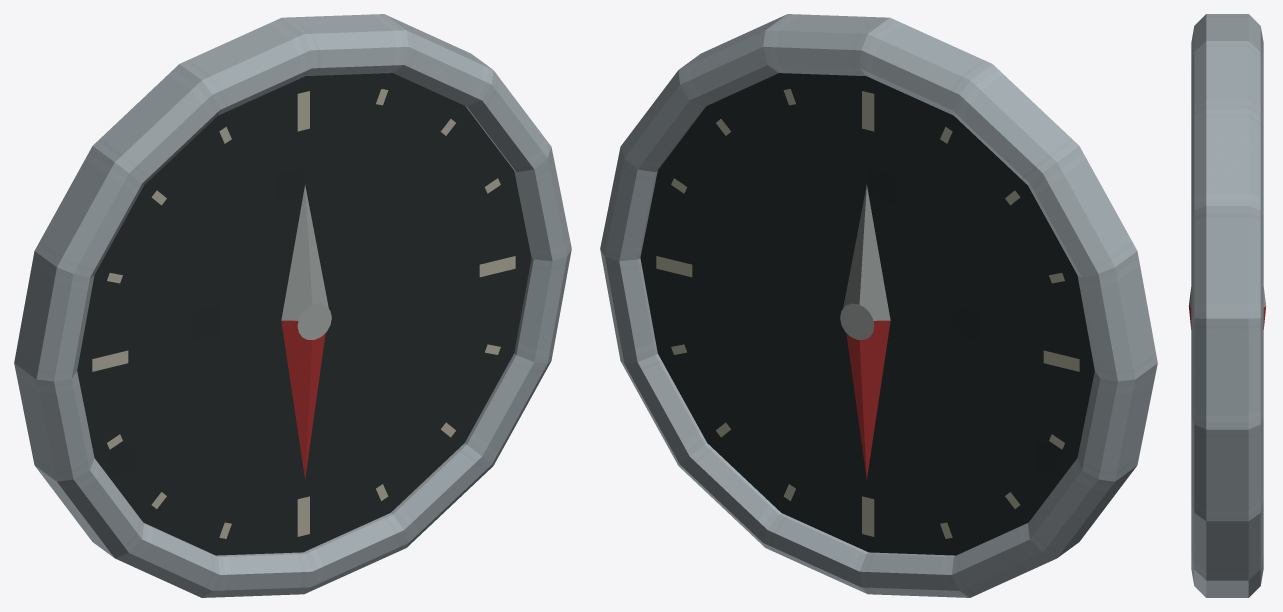
File: compass_00.obj
3 renders of one model, left to right at view 1: azimuth 30°, elevation 25°; view 2: azimuth 150°, elevation 25°; view 3: azimuth 270°, elevation 25°, orthographic. The views are drawn at different scales.
Size of the model in its own units: 0.6037 by 0.6037 by 0.085.
